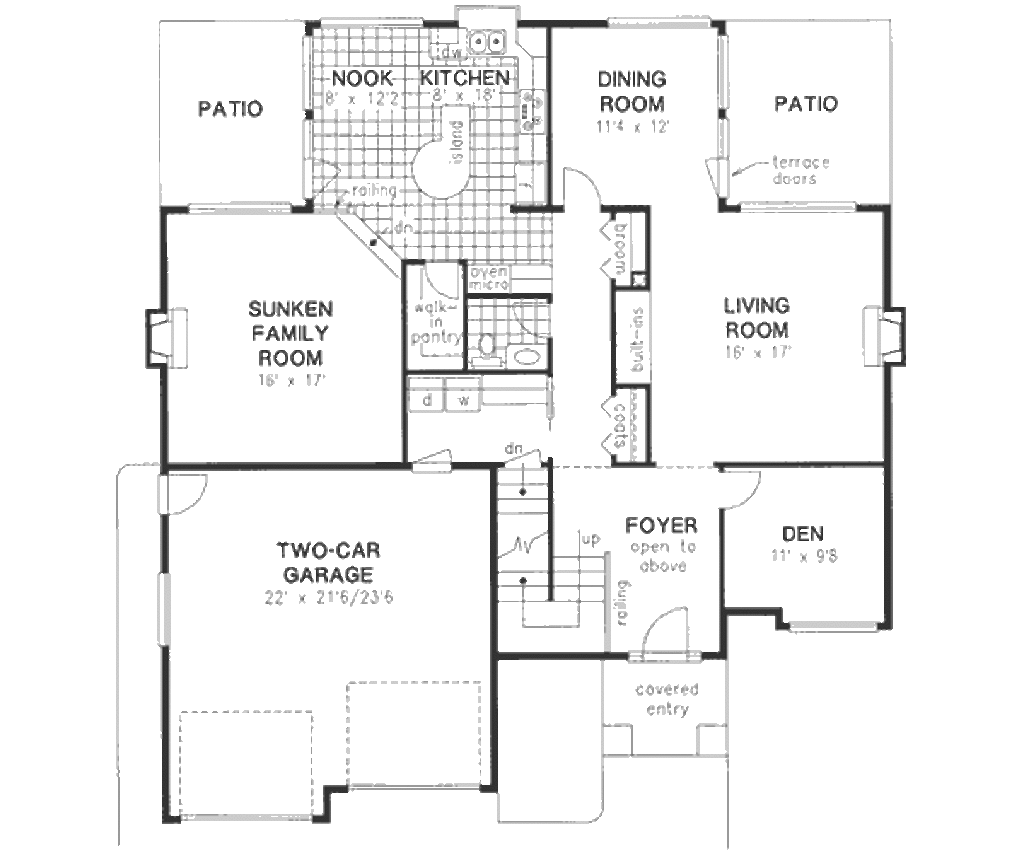door: (634, 600, 701, 672), (154, 465, 220, 524), (555, 165, 619, 218), (424, 245, 470, 309), (301, 148, 344, 203), (699, 153, 745, 202), (717, 469, 765, 514)
large_sink: (473, 326, 510, 368)
small_sink: (506, 342, 556, 372)
stairs: (489, 454, 611, 655)
twin_sink: (450, 16, 522, 65)
window: (144, 571, 180, 650), (733, 199, 862, 219), (184, 198, 293, 221), (787, 612, 885, 633), (598, 16, 717, 32)
